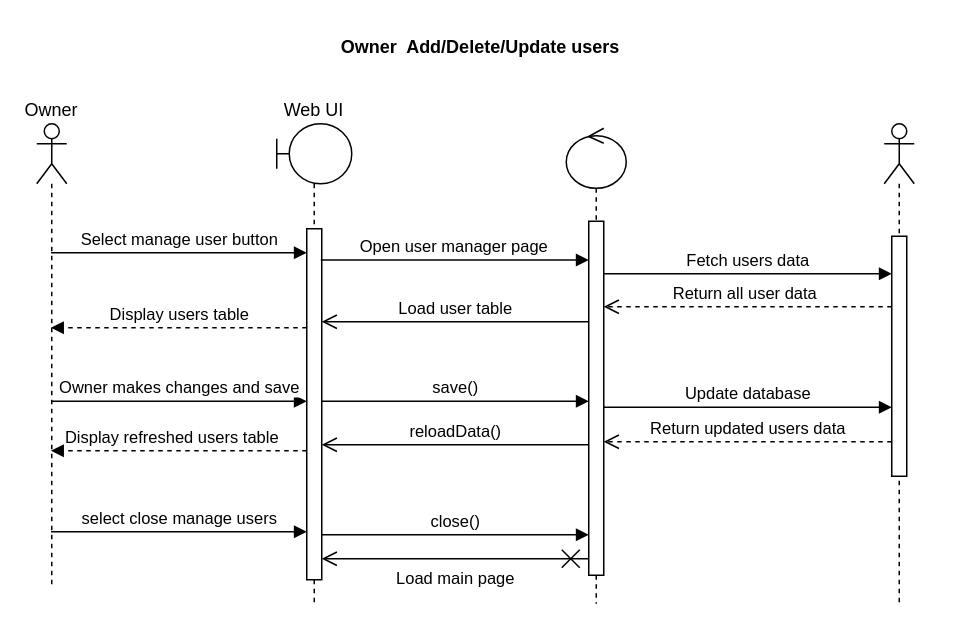
Image size: 963x630. Some labels were removed from this diagram. Here are the shapes that lost their labels. From the top down, the box of each, then its label:
(565, 127, 626, 604): UserMngrCtl
(883, 122, 914, 604): Database
